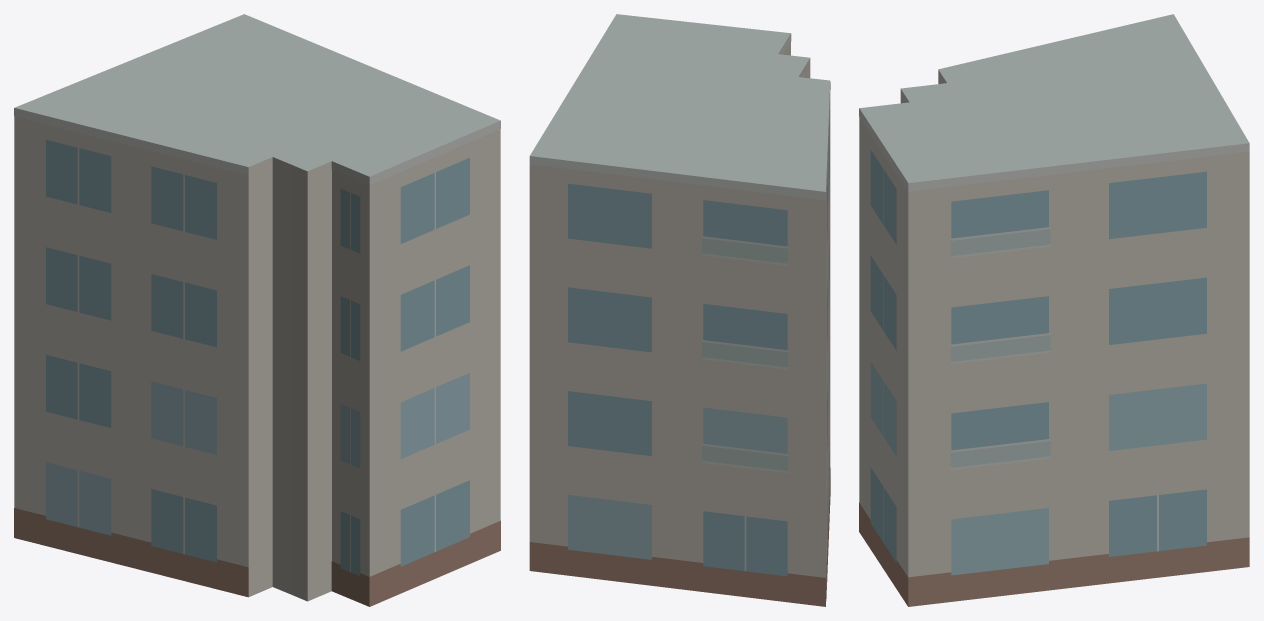
Rendered from residential-f3b65294-9e1b-40f6-bbed-e584e8362360.glb.
The picture shows the model from 3 angles, left to right: view 1: azimuth 30°, elevation 25°; view 2: azimuth 150°, elevation 25°; view 3: azimuth 270°, elevation 25°; orthographic projection. The views are drawn at different scales.
Parts seen in each view (by area): view 1: residential-f3b65294-9e1b-40f6-bbed-e584e8362360.tmp; view 2: residential-f3b65294-9e1b-40f6-bbed-e584e8362360.tmp; view 3: residential-f3b65294-9e1b-40f6-bbed-e584e8362360.tmp.
Part boxes in pixels (left/top/right/bottom): residential-f3b65294-9e1b-40f6-bbed-e584e8362360.tmp: left=14, top=14, right=500, bottom=606; residential-f3b65294-9e1b-40f6-bbed-e584e8362360.tmp: left=529, top=14, right=830, bottom=606; residential-f3b65294-9e1b-40f6-bbed-e584e8362360.tmp: left=859, top=14, right=1249, bottom=606.
Size of the model in its own units: 10.45 by 12.2 by 10.2.
